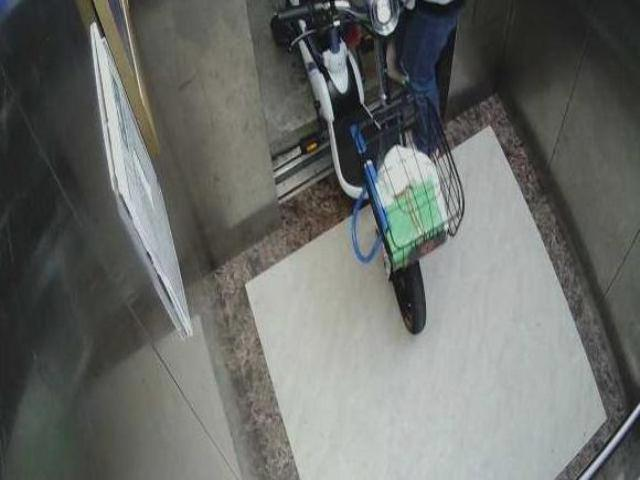emotor: (272, 2, 477, 315)
